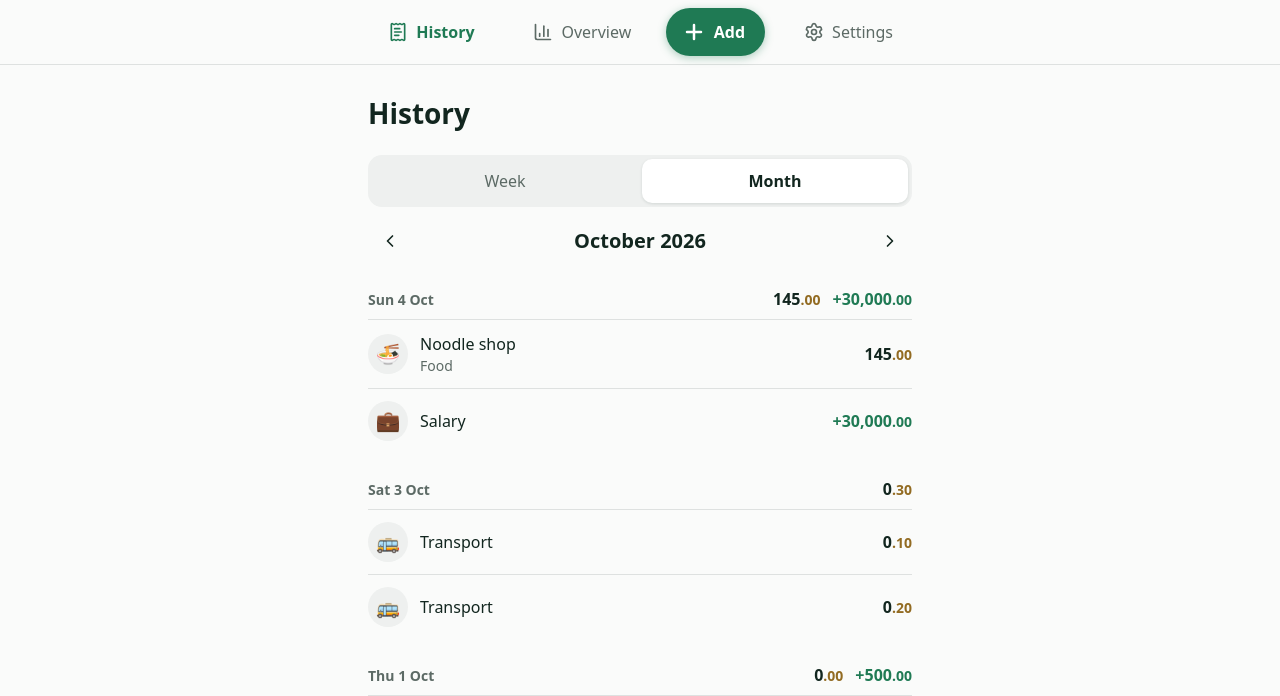
Test: History › switches to the week, Monday to Sunday, and remembers it
The image size is (1280, 696).
What coordinates should you click on to do the following:
click the radio button labelled "Week"
I would click on:
 (505, 181)
Its box is [484,170,526,192].
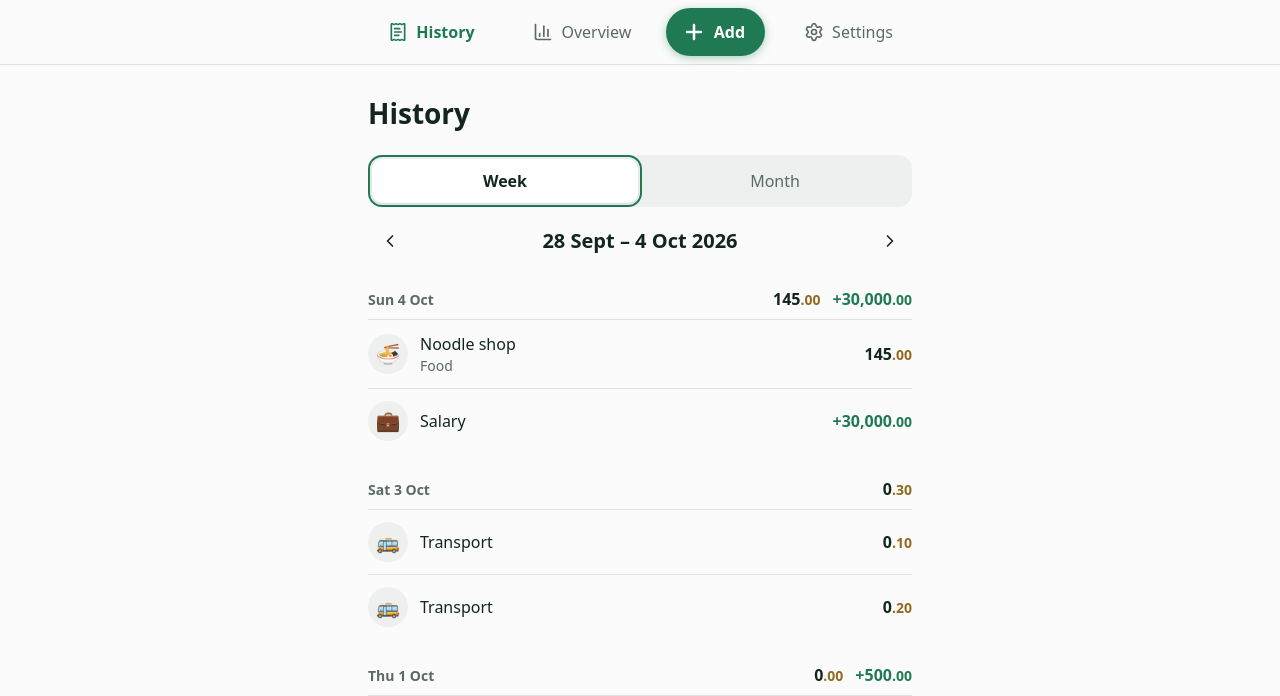
Check: the heading "28 Sept – 4 Oct 2026" is shown, box [542,227,738,255]
What coordinates should you click on to do the following:
click the button named "Previous week"
I would click on:
 (390, 241)
Its box is [368,219,412,263].
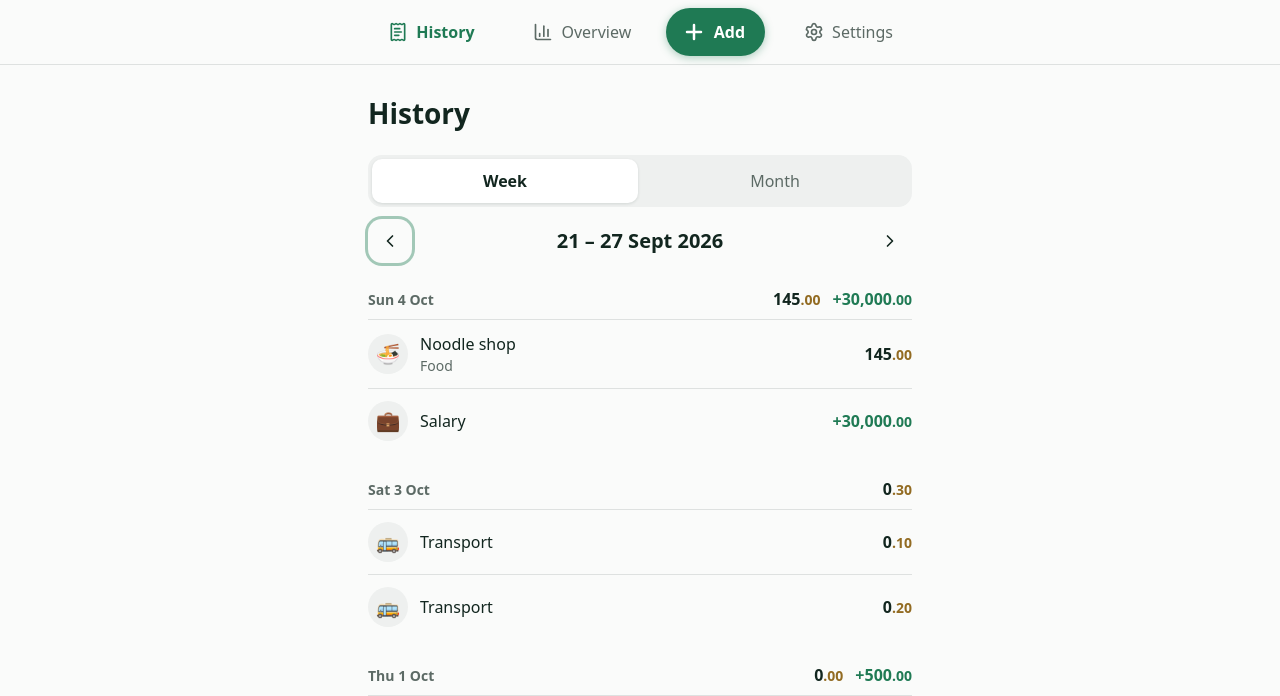
Check: the heading "21 – 27 Sept 2026" is shown, box [557,227,723,255]
